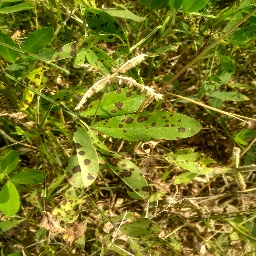GroundNut_Leaf: (89, 111, 207, 143), (101, 146, 150, 201), (73, 33, 120, 76), (82, 85, 148, 115), (159, 150, 221, 177), (66, 146, 100, 190), (23, 23, 58, 54), (1, 180, 25, 220), (50, 197, 84, 224), (119, 218, 164, 237), (1, 29, 20, 65), (1, 146, 24, 173)
